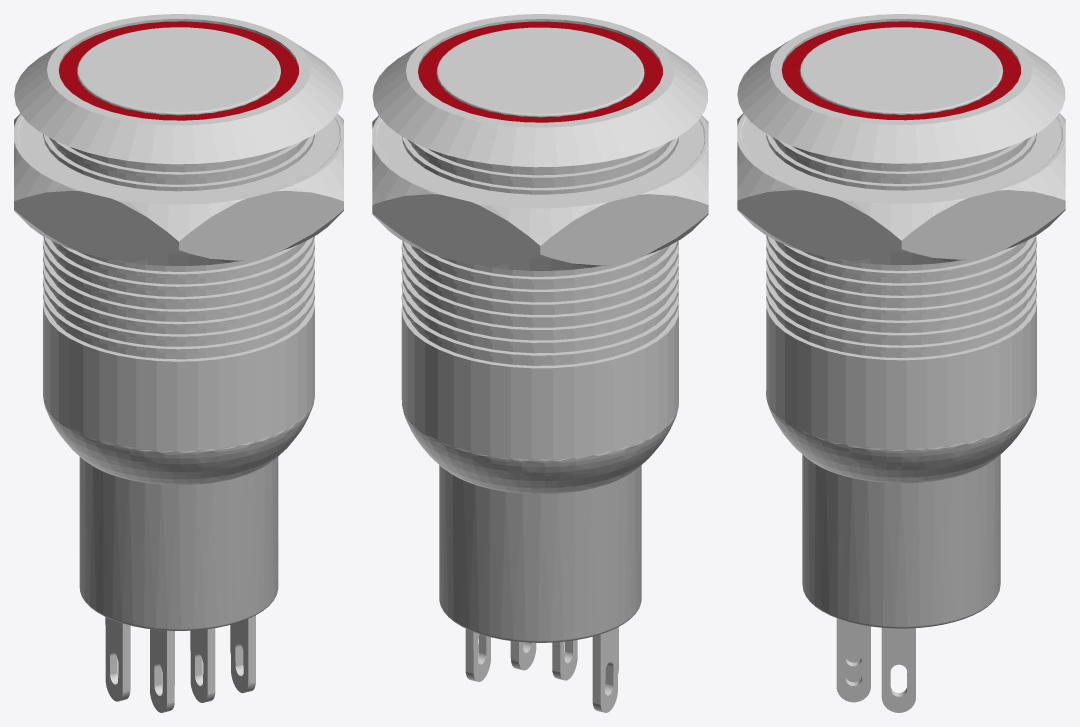
The model's file is Metal_Pushbutton_Red.dae.
The picture shows the model from 3 angles, left to right: view 1: azimuth 30°, elevation 25°; view 2: azimuth 150°, elevation 25°; view 3: azimuth 270°, elevation 25°; orthographic projection. The views are drawn at different scales.
Visible parts, largest first — view 1: Metal_Pushbutton_Yellow; view 2: Metal_Pushbutton_Yellow; view 3: Metal_Pushbutton_Yellow.
Part boxes in pixels (x1,y1,x2,y2): Metal_Pushbutton_Yellow: [14, 14, 343, 712]; Metal_Pushbutton_Yellow: [372, 14, 708, 712]; Metal_Pushbutton_Yellow: [737, 14, 1065, 712].
Bounding box in the file's own units: 20.76 × 17.98 × 36.91.
